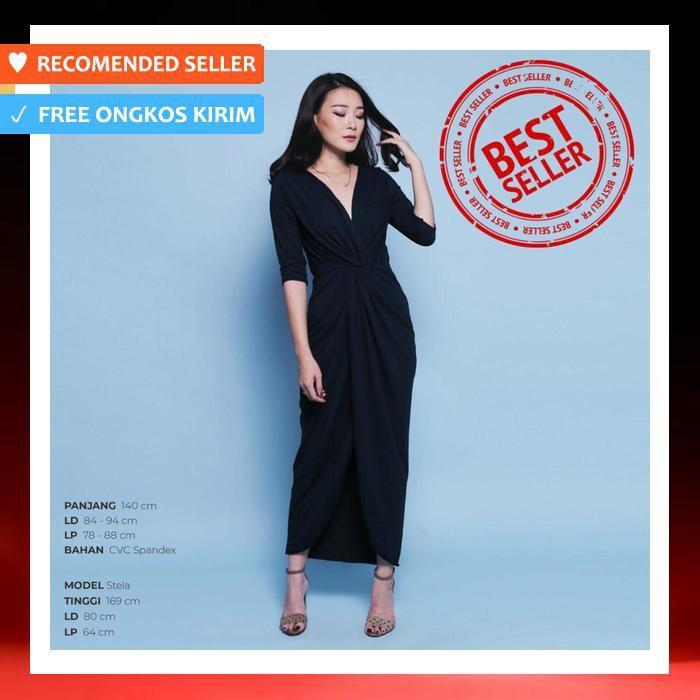dress: (253, 138, 443, 584)
